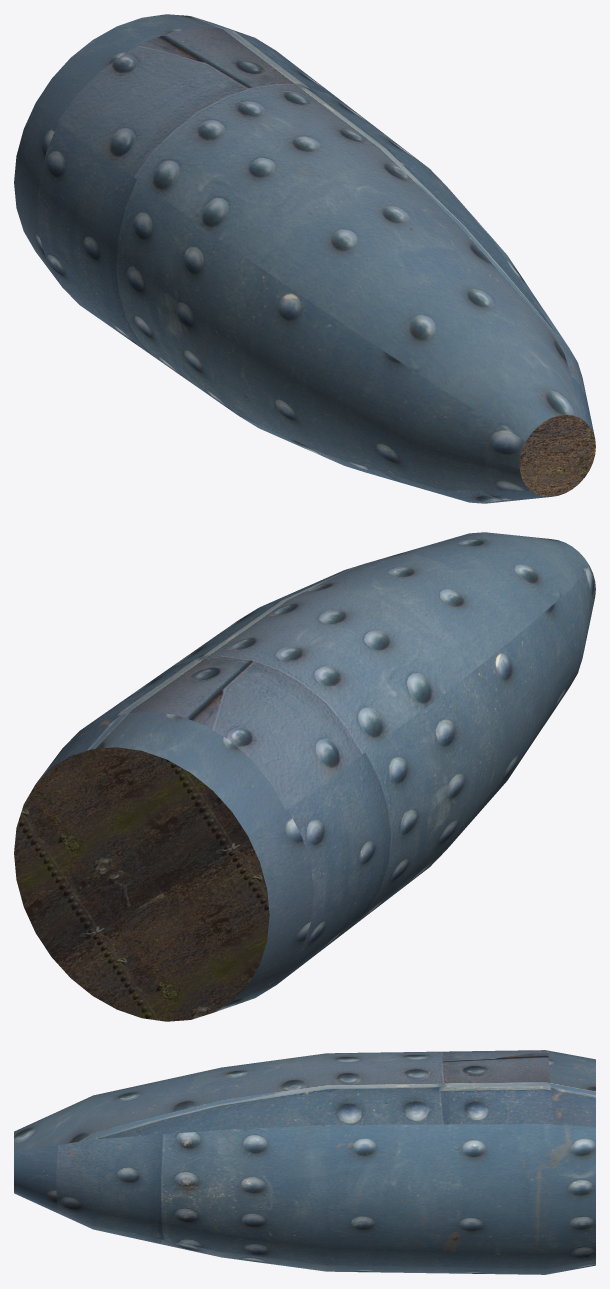
The model's file is Blunt.fbx.
3 views of the same model, one above another, from view 1: azimuth 30°, elevation 25°; view 2: azimuth 150°, elevation 25°; view 3: azimuth 270°, elevation 25° (orthographic). The views are drawn at different scales.
Visible parts, largest first — view 1: Cylinder; view 2: Cylinder; view 3: Cylinder.
Boxes of the visible parts, <box> form: Cylinder: <box>14,14,595,503</box>; Cylinder: <box>14,532,595,1021</box>; Cylinder: <box>14,1050,595,1274</box>.
Size of the model in its own units: 235 by 235 by 608.
